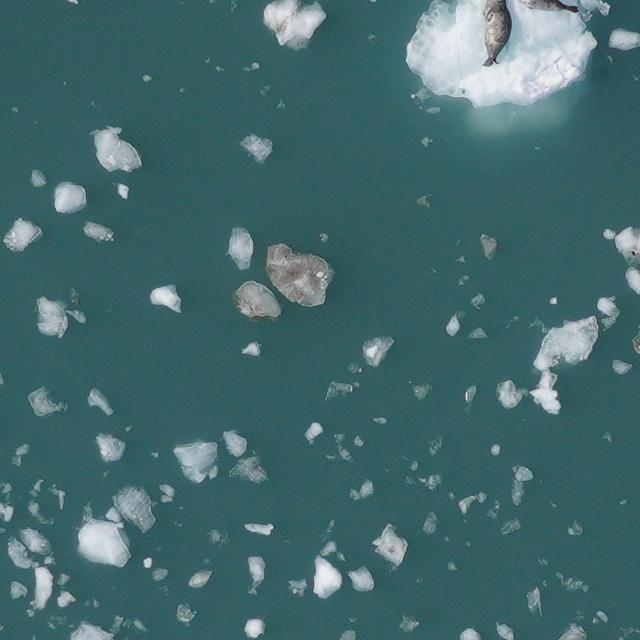seal: (480, 0, 511, 67), (520, 0, 576, 11)
